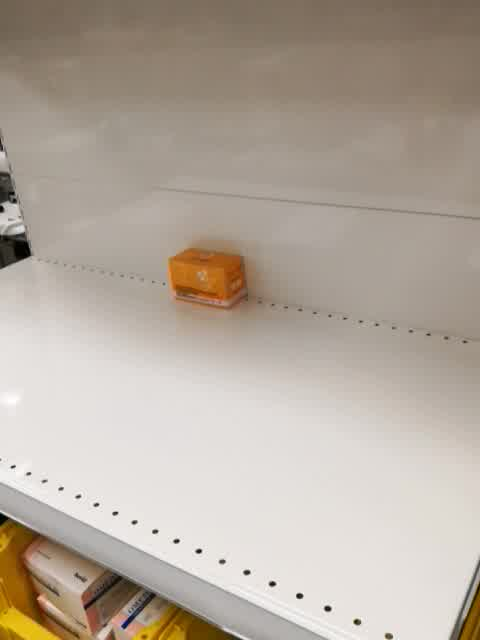jasminetea: (167, 245, 248, 310)
